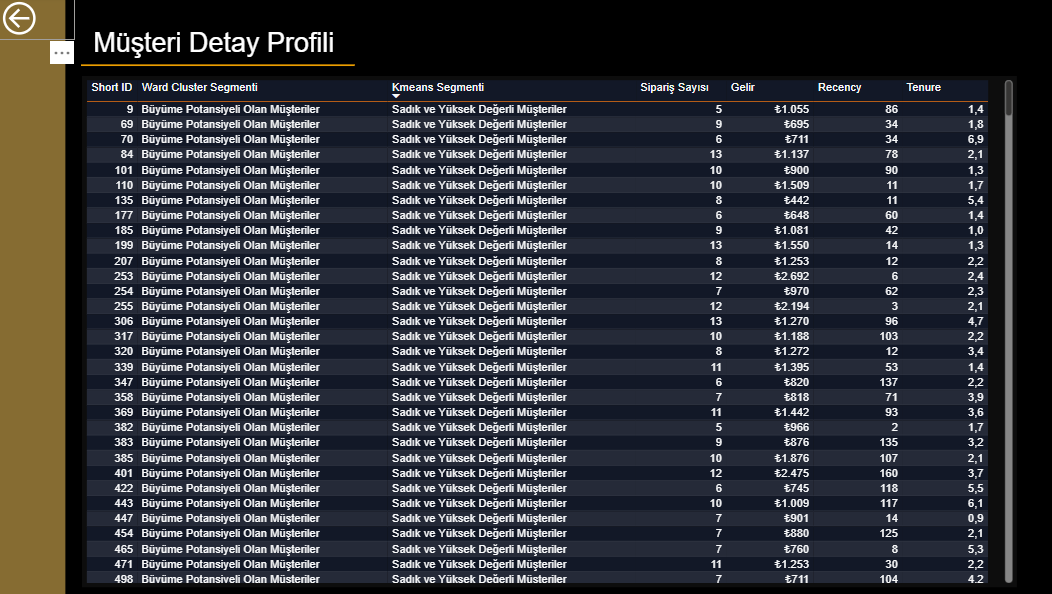

The page's visual inventory and layout, read from the dashboard file:
{"tool":"powerbi","page":{"name":"Cluster Tooltip","canvas":[1280,720],"ordinal":2},"visuals":[{"type":"shape","box":[0,0,80.1,719.5],"z":0},{"type":"tableEx","fields":{"Values":["musteri_segmentleri.Short ID","Ward - Segment.Açıklama","Kmeans - Segment.Açıklama","Executive Summary.Toplam Sipariş Sayısı","Executive Summary.Toplam Gelir","Aktivite ve Sadakat Ölçüleri.Ortalama Recency","Aktivite ve Sadakat Ölçüleri.Ortalama Tenure"]},"box":[99.8,93.6,1110,607.4],"z":1000},{"type":"textbox","box":[108.4,30.8,486.6,53],"z":3000},{"type":"shape","box":[98.6,57.9,325.2,45.6],"z":4000},{"type":"actionButton","box":[0,0,91.2,50.5],"z":4500}]}

Visuals, with their boxes on the page's 1280x720 design canvas (x1, y1, x2, y2). These are canvas units, not pixel positions in the 1052x594 screenshot, which may show the page scaled, cropped or inside an application window:
shape: l=0, t=0, r=80, b=720
tableEx - musteri_segmentleri.Short ID x Ward - Segment.Açıklama: l=100, t=94, r=1210, b=701
textbox: l=108, t=31, r=595, b=84
shape: l=99, t=58, r=424, b=104
actionButton: l=0, t=0, r=91, b=50
